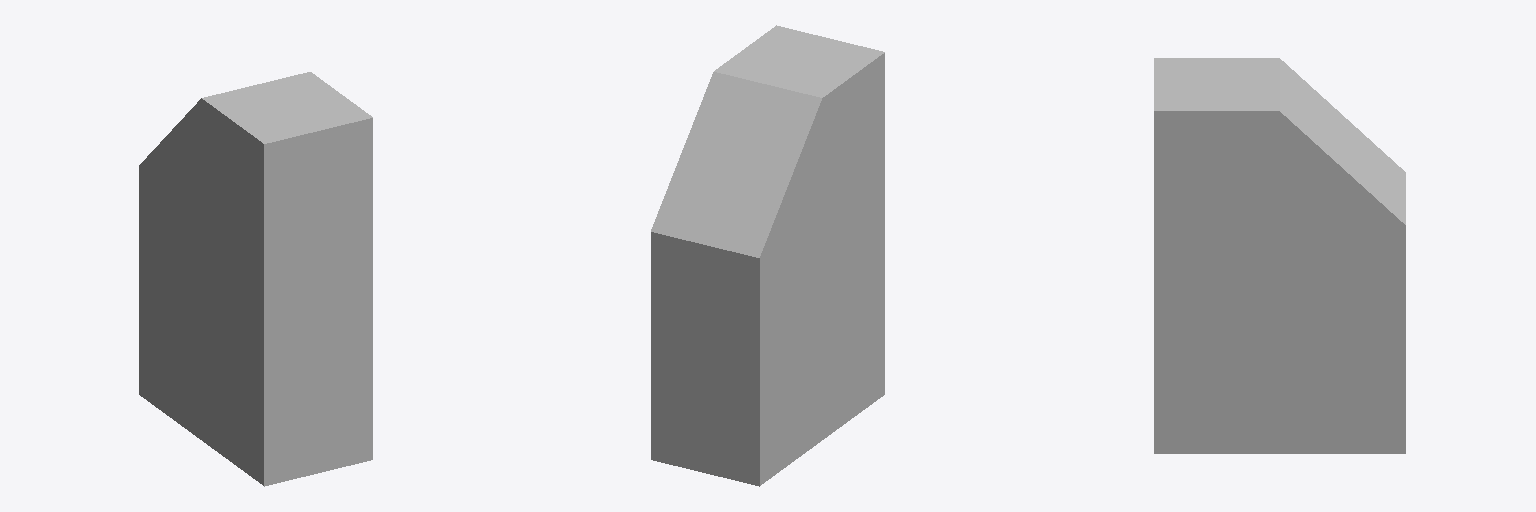
The model's file is basicsmelter.obj.
3 renders of one model, left to right at view 1: azimuth 30°, elevation 25°; view 2: azimuth 150°, elevation 25°; view 3: azimuth 270°, elevation 25°, orthographic.
Visible parts, largest first — view 1: Cube; view 2: Cube; view 3: Cube.
Boxes of the visible parts, <box> form: Cube: <box>139,72,372,486</box>; Cube: <box>651,25,884,486</box>; Cube: <box>1154,58,1405,453</box>.
Size of the model in its own units: 1 by 3 by 2.